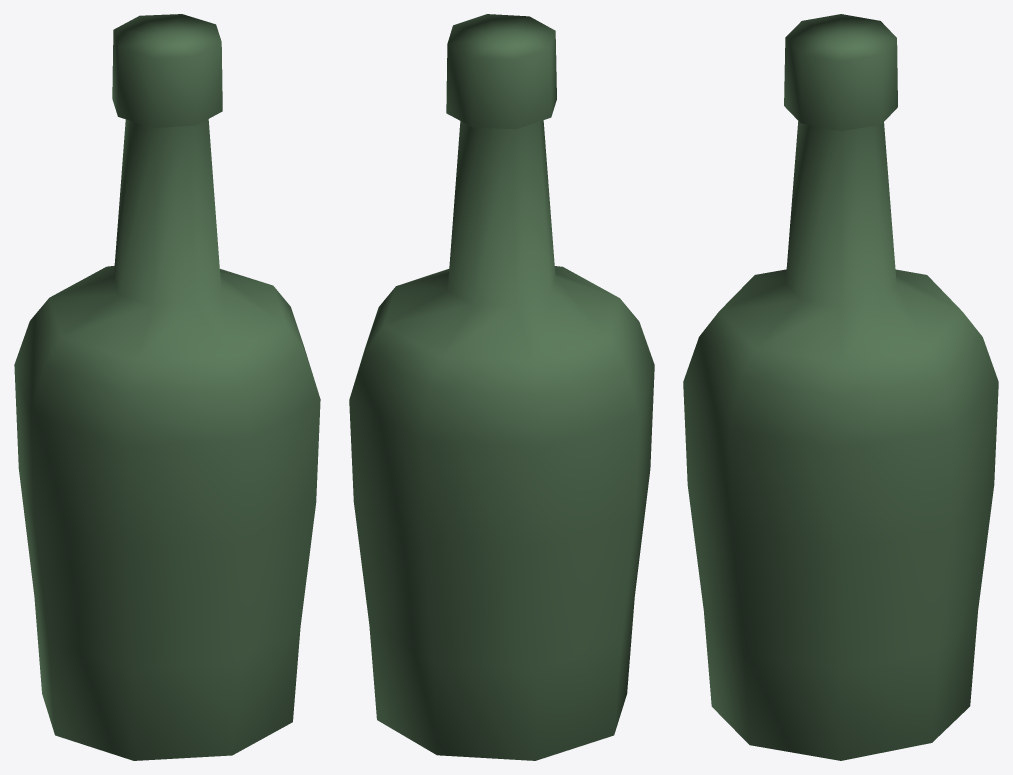
Rendered from glass bottle.fbx.
The picture shows the model from 3 angles, left to right: view 1: azimuth 30°, elevation 25°; view 2: azimuth 150°, elevation 25°; view 3: azimuth 270°, elevation 25°; orthographic projection.
Parts seen in each view (by area): view 1: glass_bottle; view 2: glass_bottle; view 3: glass_bottle.
Boxes of the visible parts, bbox=[...] form: glass_bottle: bbox=[14, 14, 320, 760]; glass_bottle: bbox=[349, 14, 654, 760]; glass_bottle: bbox=[683, 14, 998, 760].
Size of the model in its own units: 0.2897 by 0.6909 by 0.2897.
